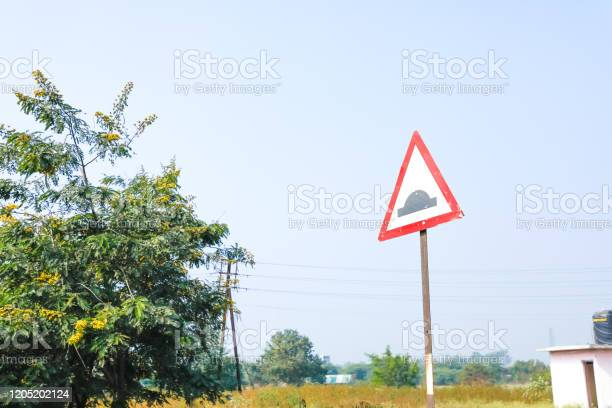speed-breaker: (383, 143, 453, 224)
